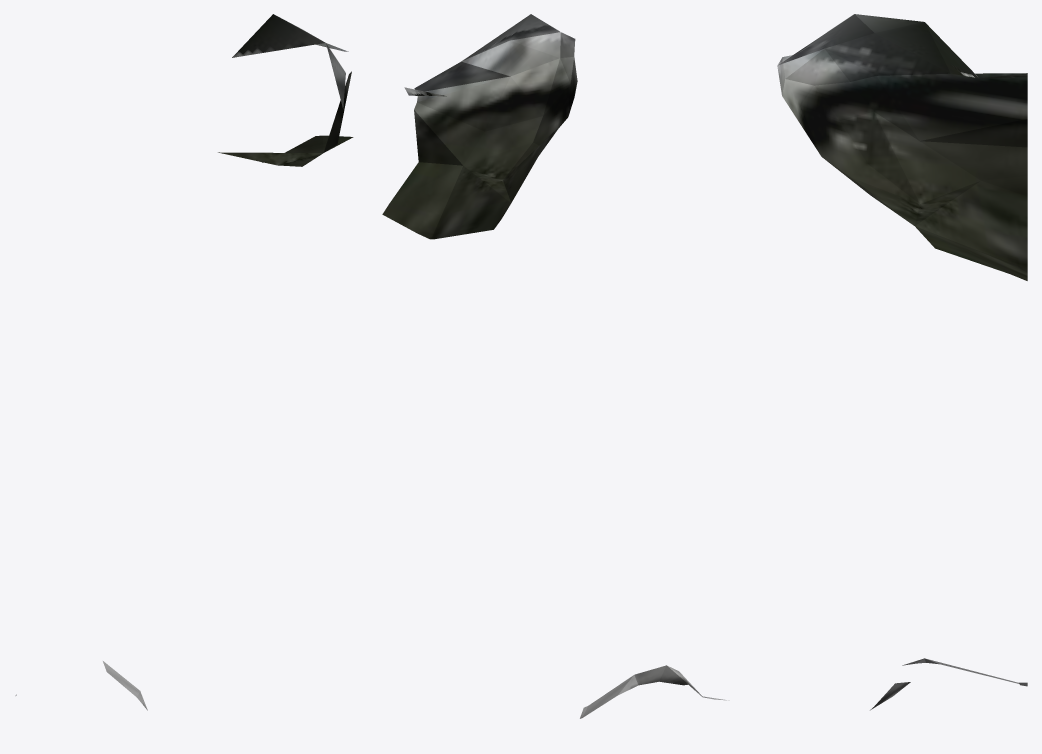
3 views of the same model, side by side, from view 1: azimuth 30°, elevation 25°; view 2: azimuth 150°, elevation 25°; view 3: azimuth 270°, elevation 25° (orthographic). The views are drawn at different scales.
Size of the model in its own units: 0.8445 by 1.57 by 0.4472.
Materials: 1 (1 with a texture image).
